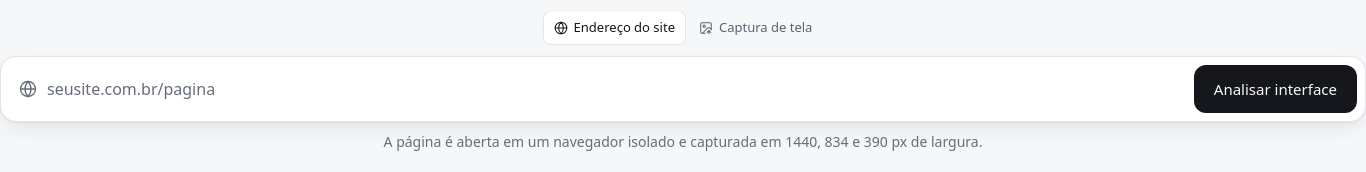
AnalyzeForm › mostra erro de validação sem chamar a API
In the field named "Endereço da página": (611, 89) top-left (47, 67), bottom-right (1176, 111), type "intranet"
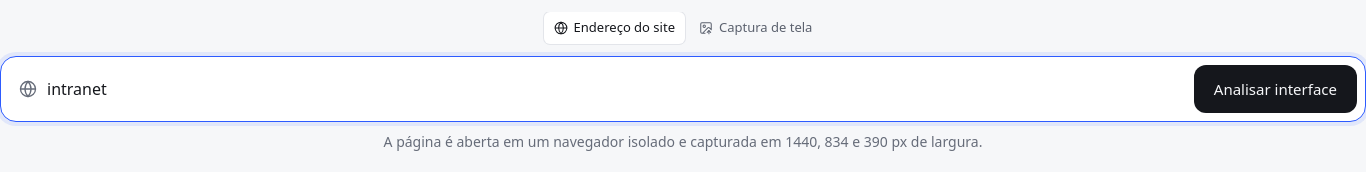
Click the button "Analisar interface": (1275, 89) top-left (1194, 65), bottom-right (1357, 113)
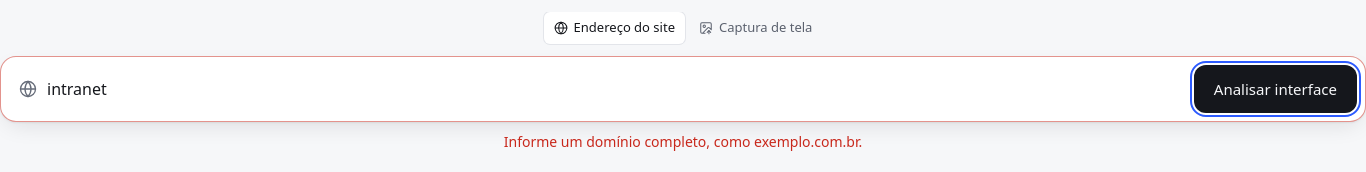
Check: the message shows "domínio completo", box top-left (504, 132), bottom-right (862, 151)
